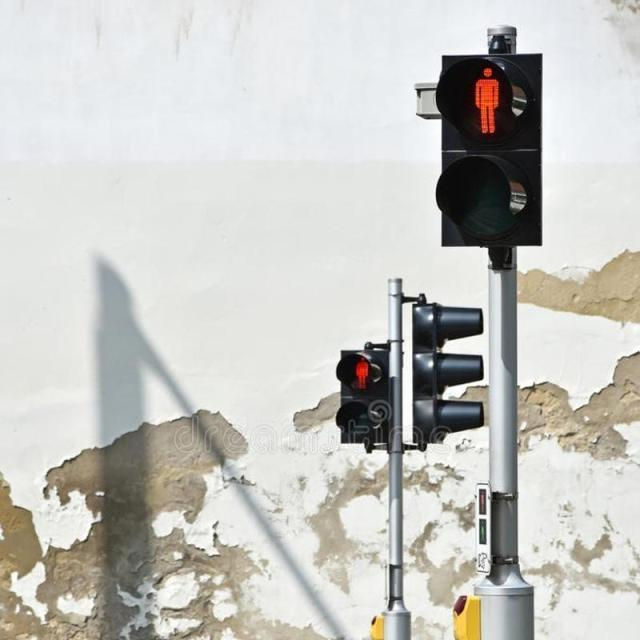red-crossing: (444, 58, 534, 144)
